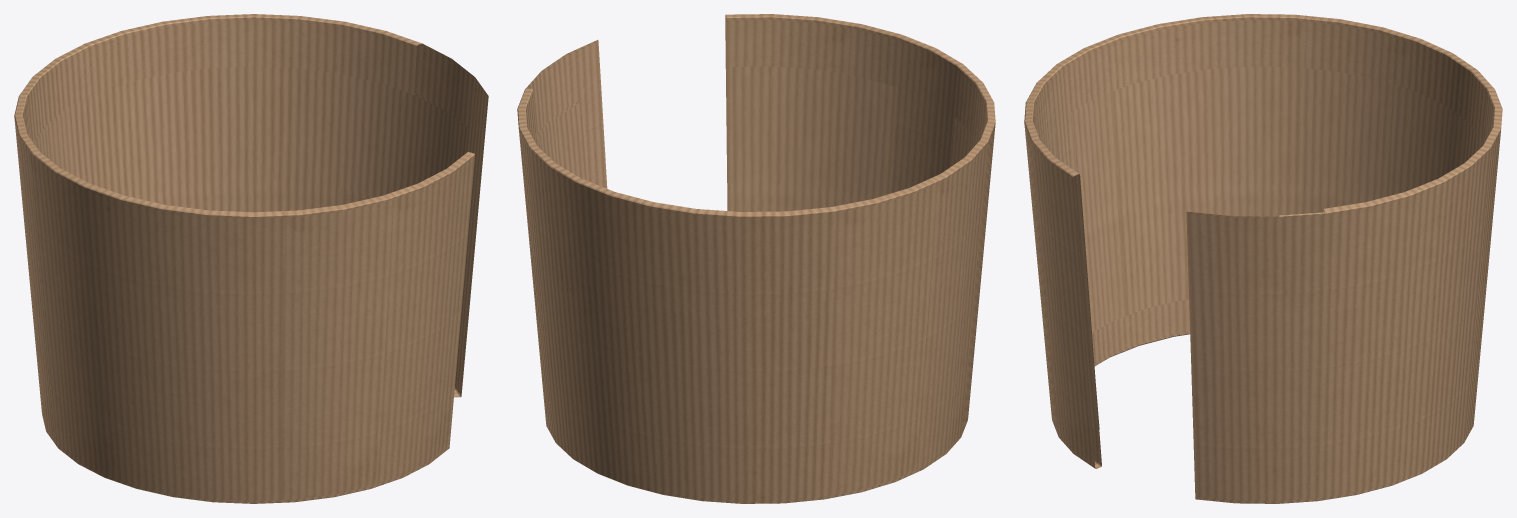
Rendered from cup1Tap.gltf.
3 views of the same model, side by side, from view 1: azimuth 30°, elevation 25°; view 2: azimuth 150°, elevation 25°; view 3: azimuth 270°, elevation 25° (orthographic).
Visible parts, largest first — view 1: Cup 400; view 2: Cup 400; view 3: Cup 400.
Boxes of the visible parts, x1,y1,x2,y2 form: Cup 400: (14, 14, 488, 503); Cup 400: (517, 14, 995, 503); Cup 400: (1024, 14, 1502, 503).
Bounding box in the file's own units: 8.63 × 5.99 × 8.63.
1 material, 1 textured.
